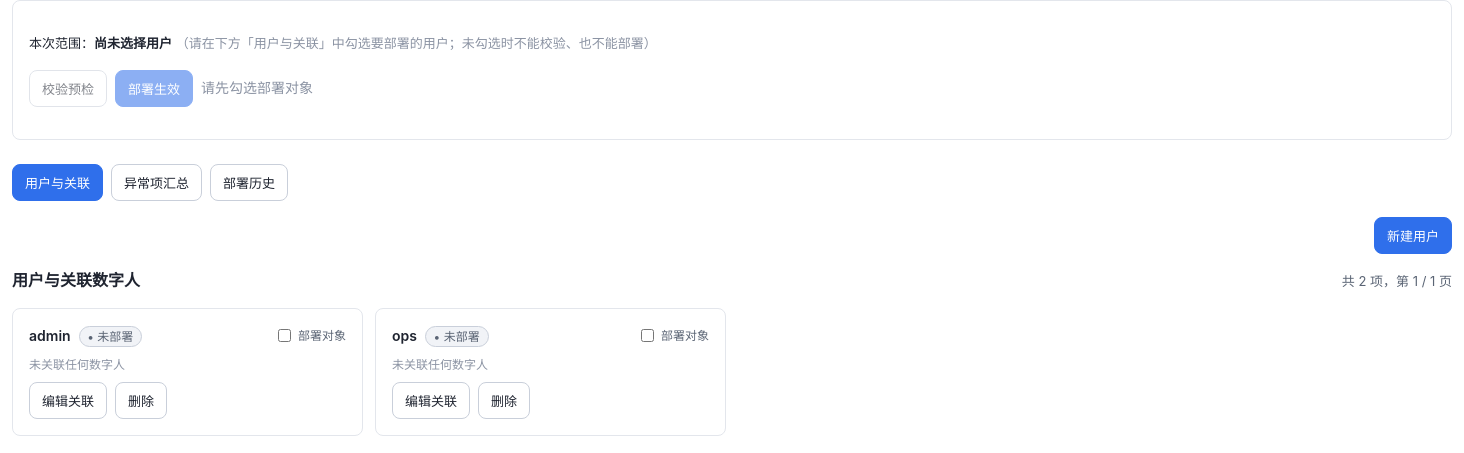
Test: DeployArea —— 勾选部署对象 › 未勾选：不能校验、不能部署；勾选后按钮可用
Expected: the button "校验预检" is disabled, [29,70,107,107]
Expected: the button "部署生效" is disabled, [115,70,193,107]
Click the checkbox labelled "部署对象" in the row of "admin" at x=284, y=336, box [278,329,291,342]
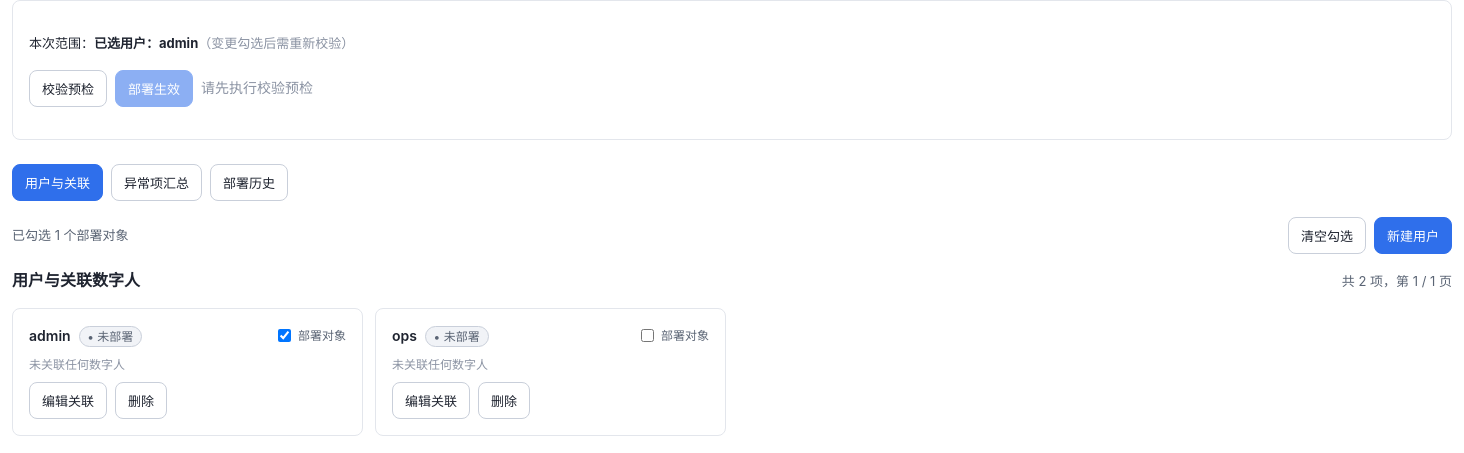
Expected: the button "校验预检" is enabled, [29,70,107,107]
Expected: the text "已选用户：admin" is shown, [94,35,198,51]
